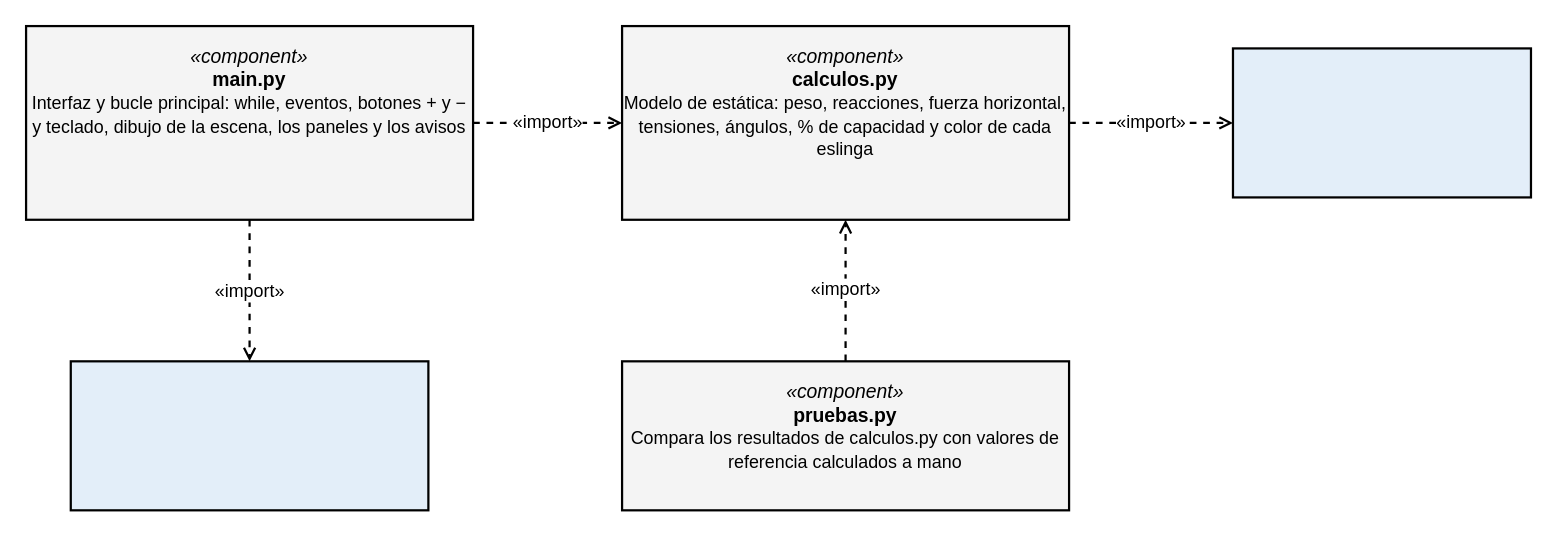
Image size: 1559x538. Some labels were removed from this diagram. Each missing label, with the centre of its shape:
"«library» math sqrt, atan2 y degrees" goes at point (1381, 122).
"«library» pygame Ventana, eventos, formas, texto y reloj" goes at point (249, 435).
